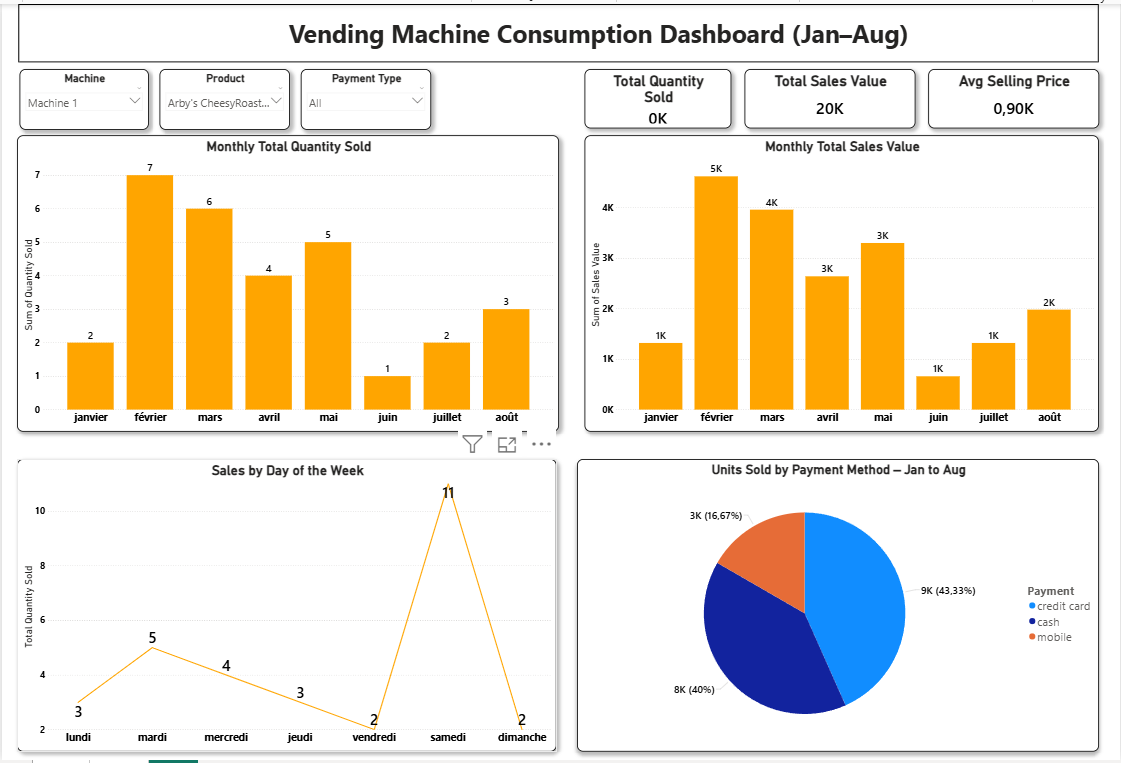

This screenshot's page, from the dashboard's own definition file:
{"tool":"powerbi","page":{"name":"1","canvas":[3261,2207],"ordinal":0},"visuals":[{"type":"card","title":"Total Quantity Sold","fields":{"Values":["Sum(AllMonthsData.Quantity Sold)"]},"box":[1701.1,188.6,429,173.8],"z":0},{"type":"card","title":"Total Sales Value","fields":{"Values":["Sum(AllMonthsData.Sales Value)"]},"box":[2167.1,188.6,499.2,173.8],"z":1000},{"type":"columnChart","title":"Monthly Total Quantity Sold","fields":{"Y":["Sum(AllMonthsData.Quantity Sold)"],"Category":["AllMonthsData.Sale Timestamp.Variation.Hiérarchie de dates.Mois"]},"box":[44.4,384.6,1582.8,865.3],"z":2000},{"type":"columnChart","title":"Monthly Total Sales Value","fields":{"Y":["Sum(AllMonthsData.Sales Value)"],"Category":["AllMonthsData.Sale Timestamp.Variation.Hiérarchie de dates.Mois"]},"box":[1701.1,384.6,1501.4,865.3],"z":3000},{"type":"slicer","title":"Machine","fields":{"Values":["AllMonthsData.Vending Machine"]},"box":[51.8,188.6,377.2,177.5],"z":4000},{"type":"card","title":"Avg Selling Price ","fields":{"Values":["Avg(AllMonthsData.Sales Value)"]},"box":[2703.3,188.6,499.2,173.8],"z":5000},{"type":"shape","box":[48.8,0,3154.6,170.6],"z":6000},{"type":"textbox","box":[614.3,34.1,2257.4,107.3],"z":8000},{"type":"slicer","title":"Product","fields":{"Values":["AllMonthsData.Product"]},"box":[458.6,188.6,380.9,177.5],"z":9000},{"type":"slicer","title":"Payment Type","fields":{"Values":["AllMonthsData.Payment"]},"box":[872.7,188.6,380.9,177.5],"z":10000},{"type":"lineChart","title":"Sales by Day of the Week","fields":{"Y":["Sum(AllMonthsData.Quantity Sold)"],"Category":["AllMonthsData.Day Name"]},"box":[44.4,1327.6,1575.4,854.3],"z":11000},{"type":"pieChart","title":"\tUnits Sold by Payment Method – Jan to Aug","fields":{"Y":["Sum(AllMonthsData.Sales Value)"],"Category":["AllMonthsData.Payment"]},"box":[1678.9,1327.6,1523.6,854.3],"z":12000}]}

Visuals, with their boxes in screenshot pixels (x1, y1, x2, y2), scaled from the page's 3261x2207 canvas onto the 1121x763 screenshot:
"Total Quantity Sold" card: <bbox>585, 65, 732, 125</bbox>
"Total Sales Value" card: <bbox>745, 65, 917, 125</bbox>
"Monthly Total Quantity Sold" columnChart: <bbox>15, 133, 559, 432</bbox>
"Monthly Total Sales Value" columnChart: <bbox>585, 133, 1101, 432</bbox>
"Machine" slicer: <bbox>18, 65, 147, 127</bbox>
"Avg Selling Price " card: <bbox>929, 65, 1101, 125</bbox>
shape: <bbox>17, 0, 1101, 59</bbox>
textbox: <bbox>211, 12, 987, 49</bbox>
"Product" slicer: <bbox>158, 65, 289, 127</bbox>
"Payment Type" slicer: <bbox>300, 65, 431, 127</bbox>
"Sales by Day of the Week" lineChart: <bbox>15, 459, 557, 754</bbox>
"	Units Sold by Payment Method – Jan to Aug" pieChart: <bbox>577, 459, 1101, 754</bbox>
